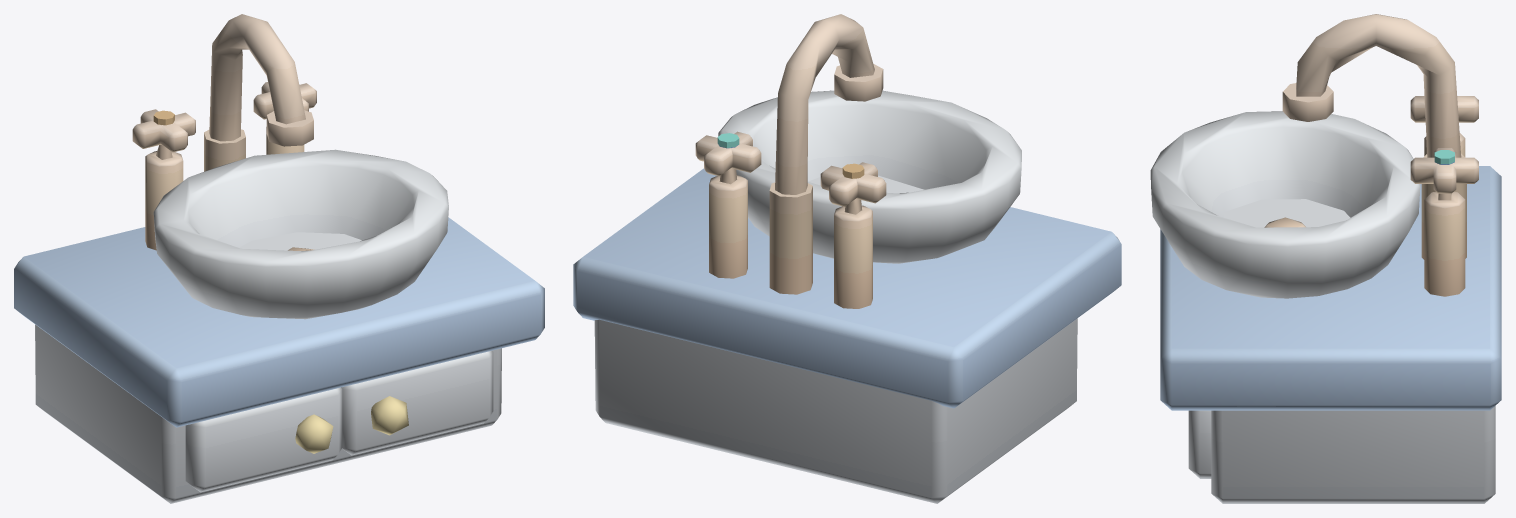
The model's file is bath-sink.glb.
3 renders of one model, left to right at view 1: azimuth 30°, elevation 25°; view 2: azimuth 150°, elevation 25°; view 3: azimuth 270°, elevation 25°, orthographic. The views are drawn at different scales.
Visible parts, largest first — view 1: cabinet_bathroom; view 2: cabinet_bathroom; view 3: cabinet_bathroom.
Part boxes in pixels (x1=…): cabinet_bathroom: x1=14, y1=14, x2=544, y2=503; cabinet_bathroom: x1=573, y1=14, x2=1121, y2=503; cabinet_bathroom: x1=1150, y1=14, x2=1501, y2=503.
Bounding box in the file's own units: 2 × 1.98 × 1.54.
1 material, 1 textured.
